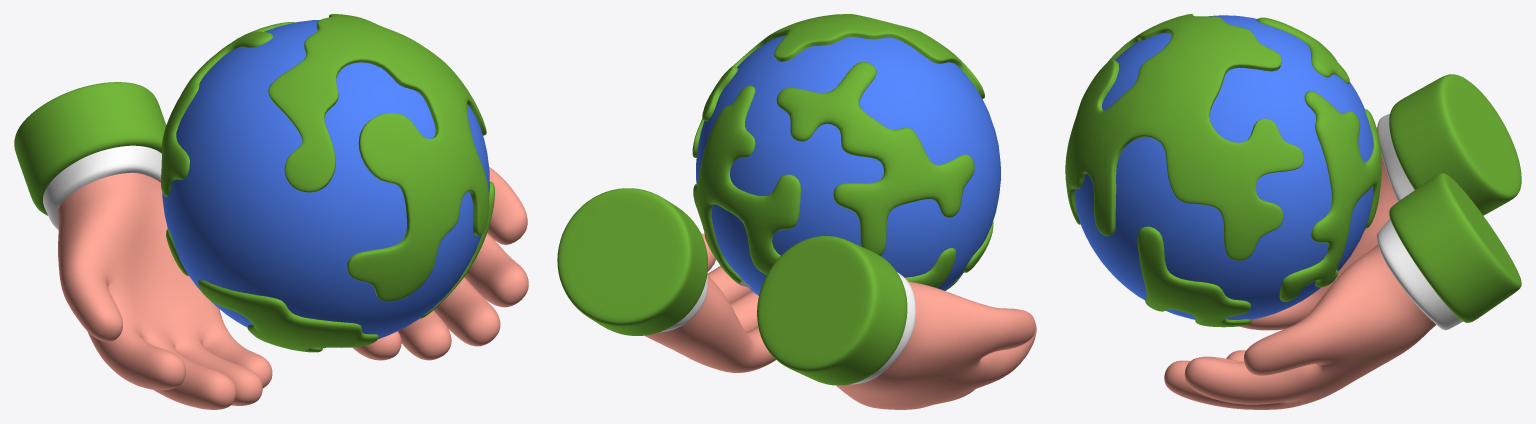
The model's file is SaveEarth.gltf.
The picture shows the model from 3 angles, left to right: view 1: azimuth 30°, elevation 25°; view 2: azimuth 150°, elevation 25°; view 3: azimuth 270°, elevation 25°; orthographic projection. The views are drawn at different scales.
Parts seen in each view (by area): view 1: Cube.006, Cube.100, Cube.088, Cylinder.010, Cube.090, Cube.087; view 2: Cube.006, Cube.100, Cylinder.010, Cylinder.011, Cube.088, Cube.090, Cube.087; view 3: Cube.100, Cube.006, Cube.090, Cylinder.010, Cylinder.011, Cube.089, Cube.088, Cube.087.
Boxes of the visible parts, box(x1,y1,x2,y2) form: Cube.006: box(162, 20, 489, 339); Cube.100: box(161, 14, 494, 352); Cube.088: box(57, 172, 272, 409); Cylinder.010: box(14, 82, 166, 215); Cube.090: box(352, 167, 528, 360); Cube.087: box(43, 145, 161, 229); Cube.006: box(696, 35, 1000, 295); Cube.100: box(692, 14, 993, 290); Cylinder.010: box(757, 236, 907, 385); Cylinder.011: box(557, 188, 707, 335); Cube.088: box(836, 281, 1036, 409); Cube.090: box(644, 233, 775, 372); Cube.087: box(851, 272, 915, 384); Cube.100: box(1065, 14, 1381, 327); Cube.006: box(1074, 15, 1373, 319); Cube.090: box(1164, 244, 1435, 409); Cylinder.010: box(1389, 74, 1521, 215); Cylinder.011: box(1389, 173, 1521, 322); Cube.089: box(1377, 219, 1462, 330); Cube.088: box(1239, 127, 1398, 330); Cube.087: box(1377, 113, 1414, 201).
Size of the model in its own units: 7.93 by 6.16 by 7.61.
